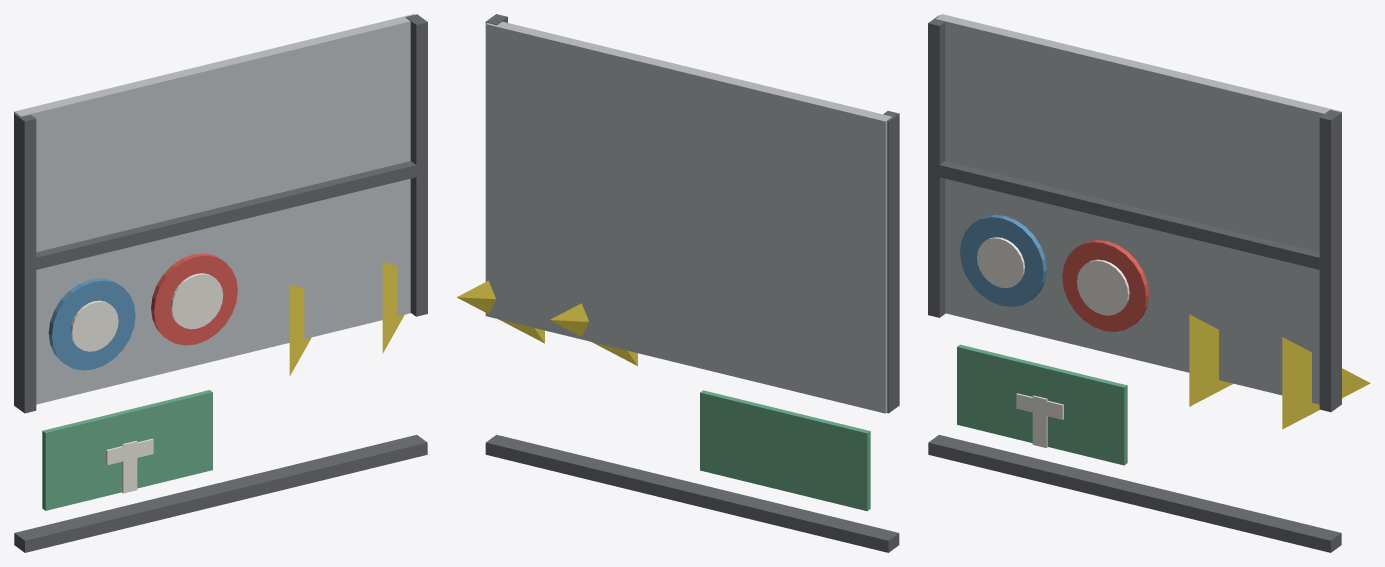
File: car-repair-garage-and-mot-workshop-car-repair-garage-a-3580487a__34033.glb
3 views of the same model, side by side, from view 1: azimuth 30°, elevation 25°; view 2: azimuth 150°, elevation 25°; view 3: azimuth 330°, elevation 25° (orthographic).
Parts seen in each view (by area): view 1: car-repair-garage-and-mot-workshop-safety-sign-board; view 2: car-repair-garage-and-mot-workshop-safety-sign-board; view 3: car-repair-garage-and-mot-workshop-safety-sign-board.
Part boxes in pixels (x1,y1,x2,y2): car-repair-garage-and-mot-workshop-safety-sign-board: (14, 14, 427, 552); car-repair-garage-and-mot-workshop-safety-sign-board: (456, 14, 899, 552); car-repair-garage-and-mot-workshop-safety-sign-board: (928, 14, 1370, 552).
Size of the model in its own units: 0.9088 by 0.8892 by 0.0825.
